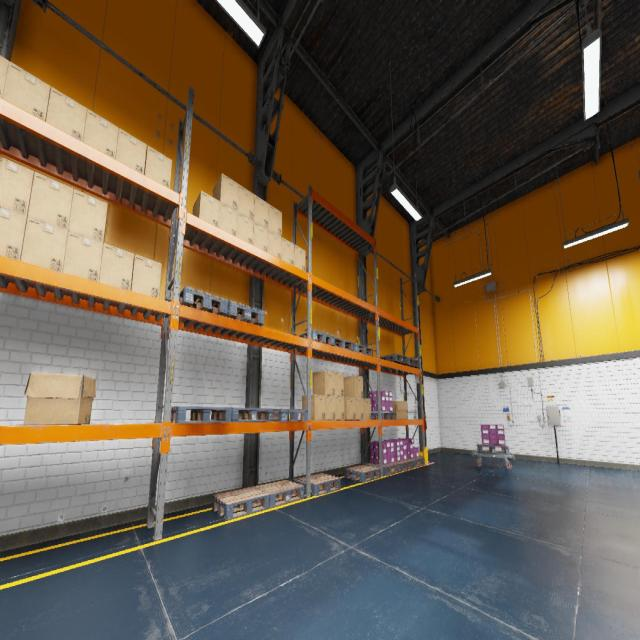box: (24, 372, 96, 425), (2, 61, 51, 121), (21, 216, 68, 272), (28, 172, 73, 230), (46, 87, 87, 141), (68, 189, 108, 243), (63, 231, 103, 282), (0, 156, 34, 216), (83, 108, 119, 159), (99, 243, 134, 290), (0, 207, 27, 260), (115, 128, 146, 174), (130, 254, 162, 298), (144, 145, 172, 188), (192, 190, 220, 227), (212, 173, 239, 211), (219, 202, 237, 236), (302, 394, 325, 420), (238, 184, 254, 220), (312, 370, 334, 396), (237, 212, 253, 244), (254, 195, 268, 229), (253, 221, 268, 252), (268, 204, 282, 237), (344, 375, 363, 398), (0, 55, 9, 98), (281, 237, 294, 265), (268, 230, 281, 258), (390, 401, 408, 419), (294, 244, 306, 271), (344, 396, 356, 419), (325, 395, 335, 420), (335, 372, 344, 396), (335, 396, 344, 420), (363, 398, 371, 420), (356, 398, 364, 420)
pallets: (212, 486, 270, 520), (179, 286, 228, 316), (254, 480, 304, 508), (170, 406, 232, 423), (296, 473, 341, 496), (225, 300, 264, 326), (344, 464, 381, 482), (231, 408, 273, 422), (298, 330, 334, 346), (273, 408, 308, 422), (367, 462, 400, 476), (476, 443, 510, 455), (326, 337, 354, 351), (347, 344, 373, 356), (380, 354, 408, 364), (394, 459, 414, 471), (396, 358, 419, 368), (371, 412, 396, 420), (406, 457, 424, 467)
